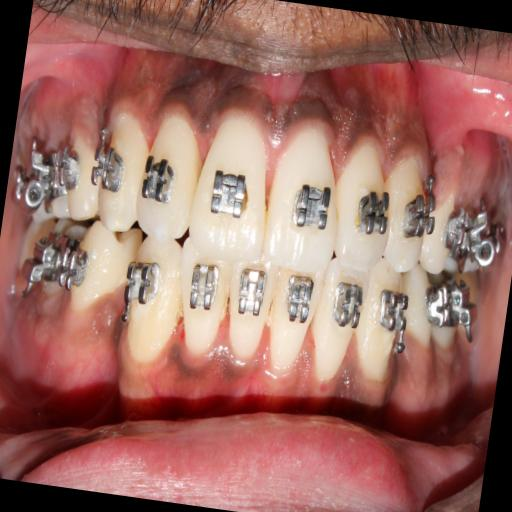correct_brace: (350, 174, 396, 250), (204, 164, 256, 229), (285, 173, 334, 240), (138, 150, 182, 208), (186, 259, 224, 318), (234, 264, 269, 320), (281, 274, 316, 326), (332, 277, 366, 329)
incorrect_brace: (132, 110, 206, 244), (332, 132, 402, 268), (304, 259, 368, 385), (168, 249, 230, 363)
